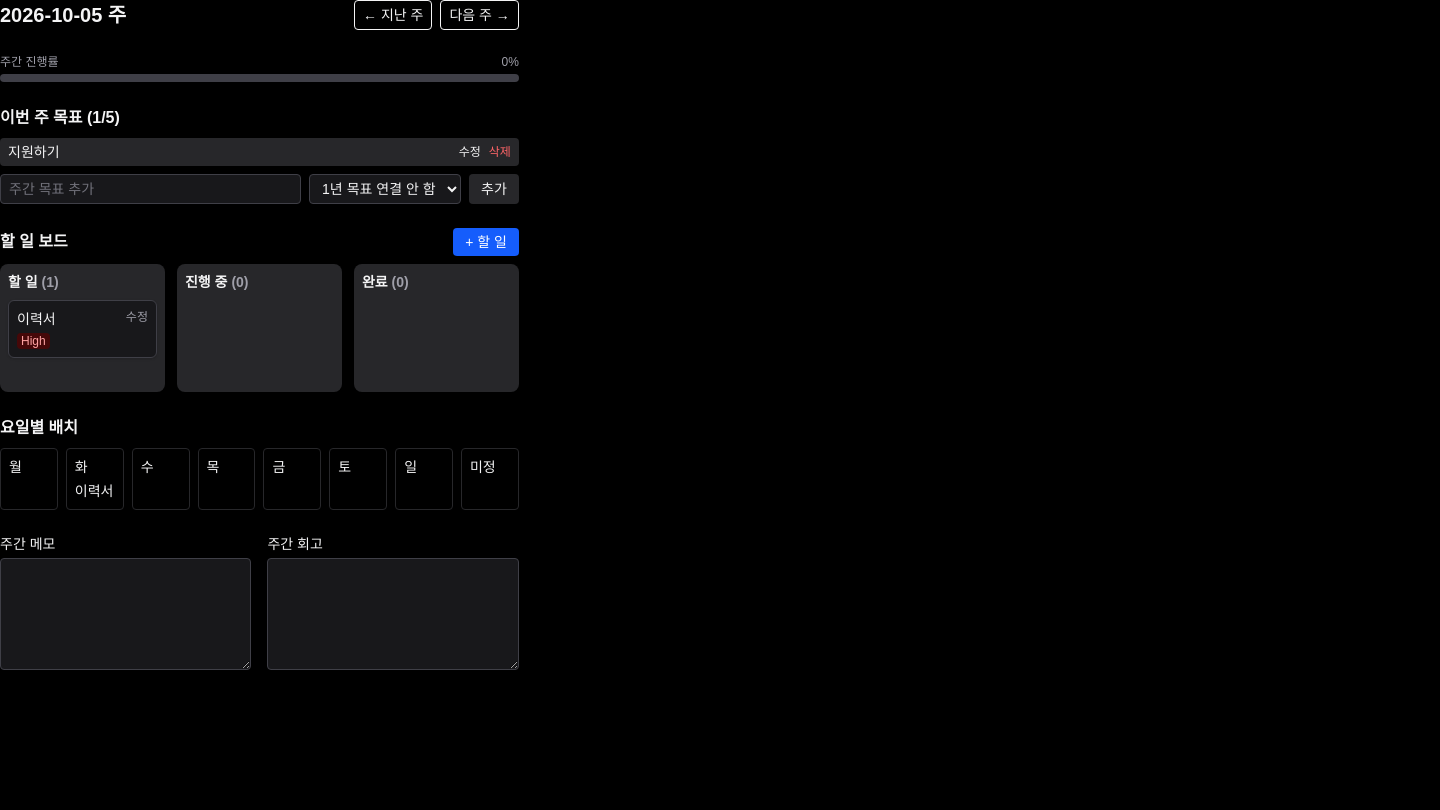
WeekView edit and delete › edits a task from its card
Click the button with aria-label "이력서 수정". click: (137, 317)
box: [126,309,148,325]
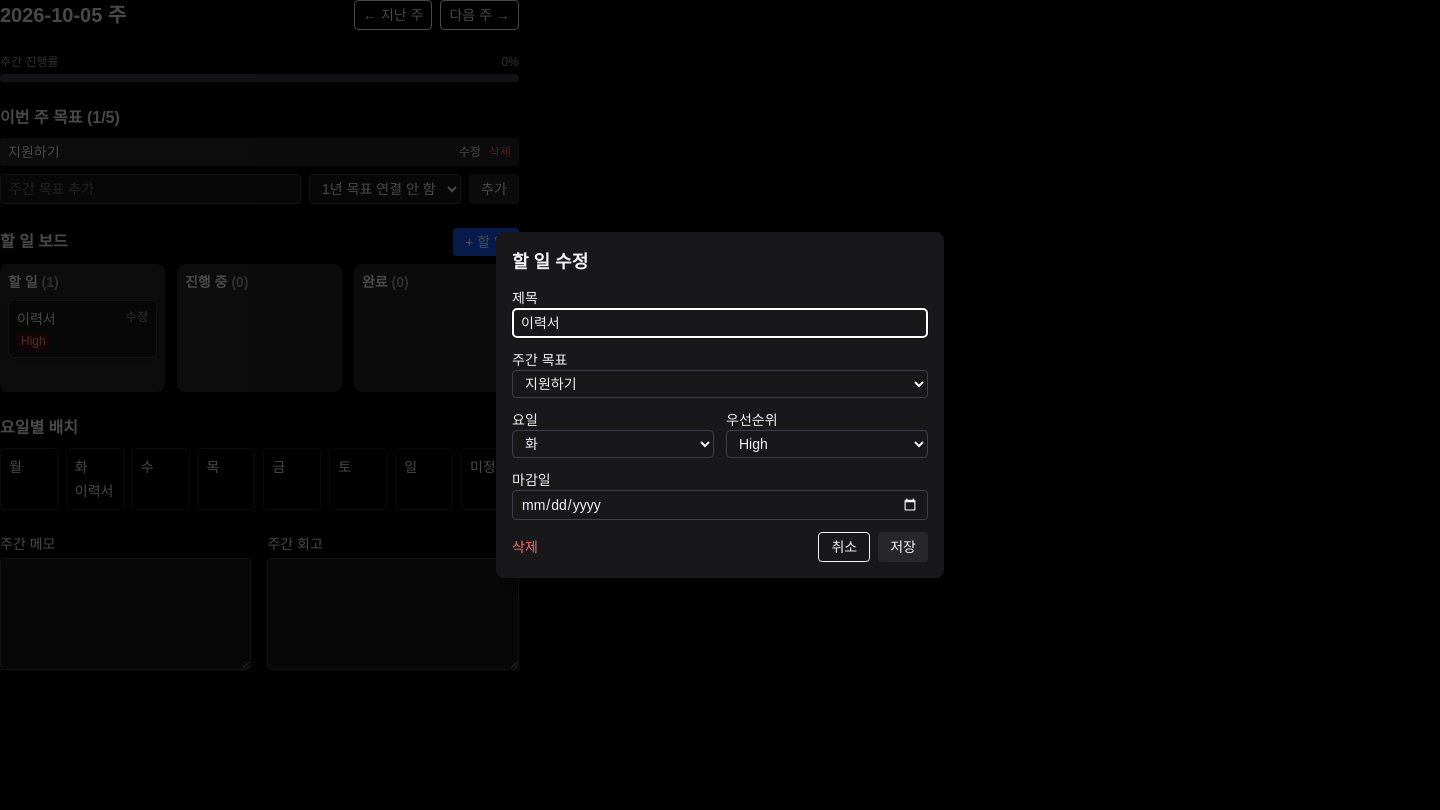
Replace the text in the field labelled "제목" with "이력서 제출". click: (720, 323)
box: [512,308,928,338]
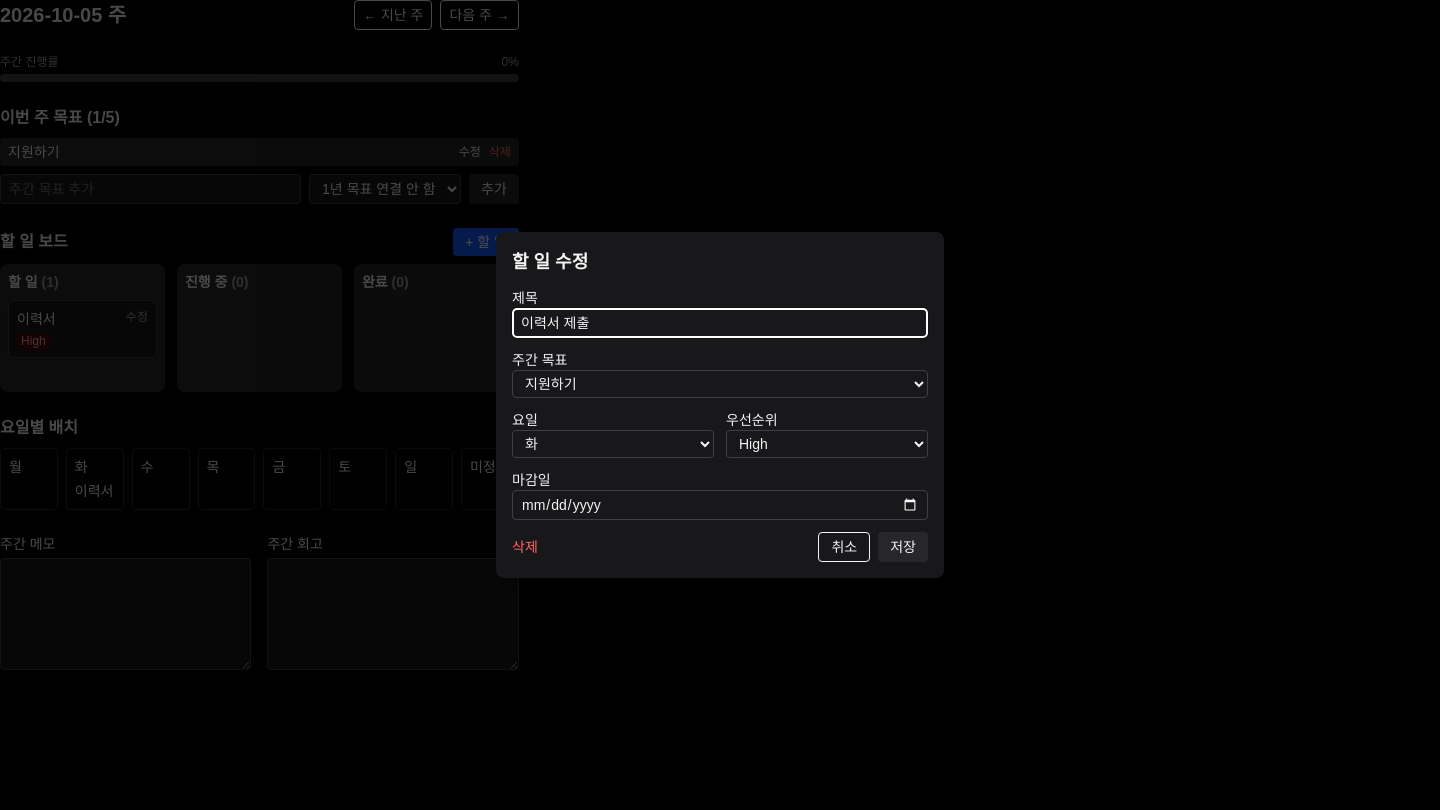
Click the button "저장". click: (903, 547)
box: [878,532,928,562]
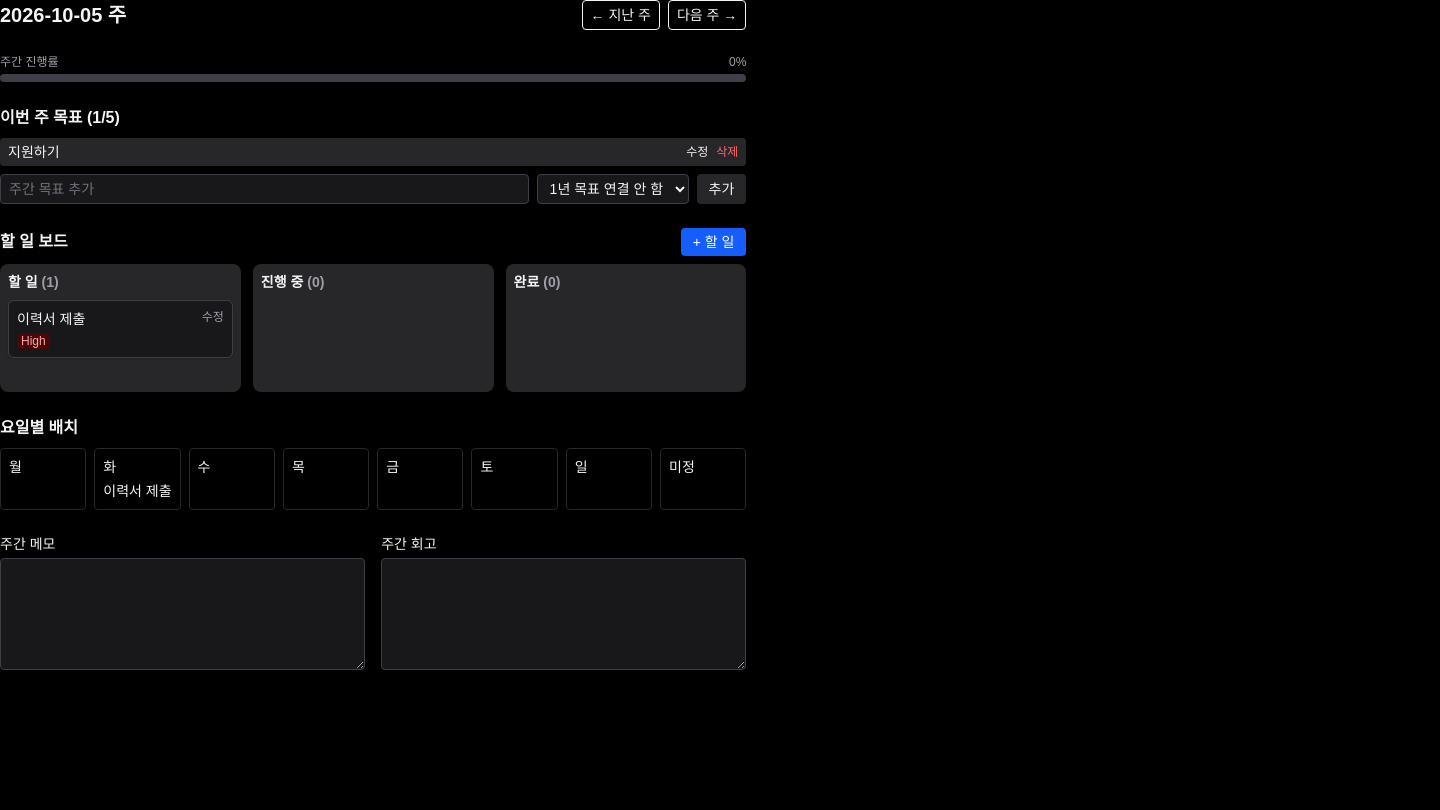
Expected: the dialog is gone
Expected: the text "이력서 제출" is shown, [17,309,85,329]
